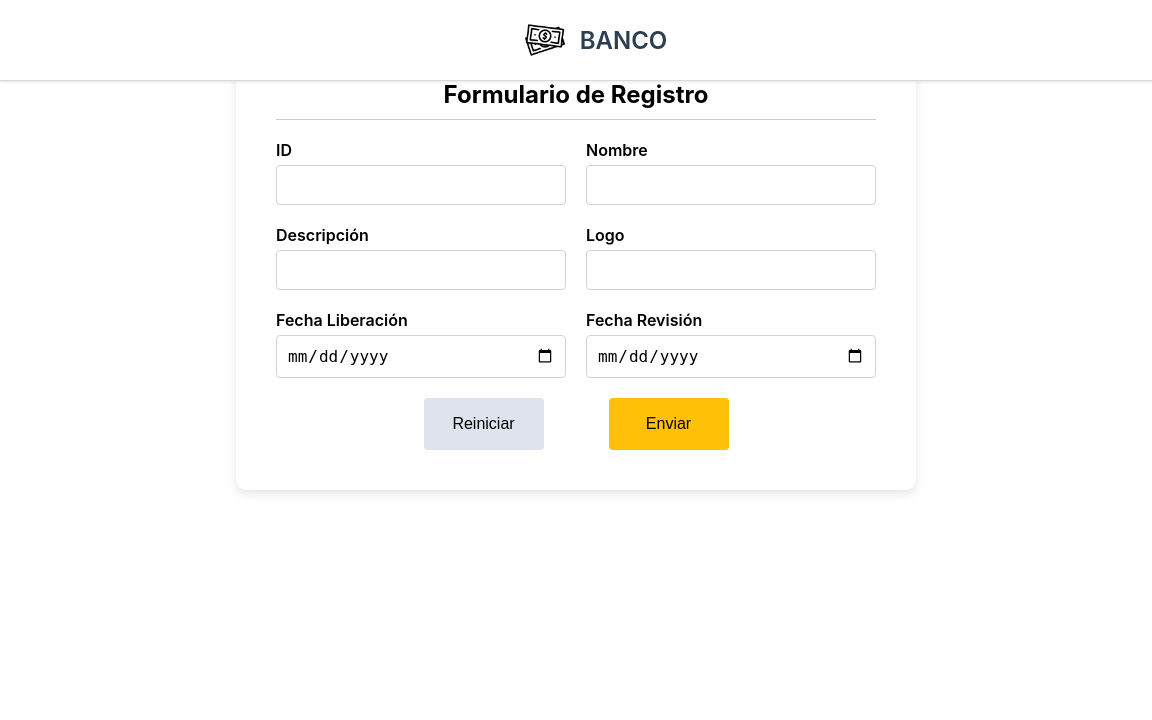
Test: ProductForm Component › submits form successfully in create mode
Type "112233" into the field labelled "ID" at (421,185), box [276,165,566,205]
Type "Test Product" into the field labelled "Nombre" at (731,185), box [586,165,876,205]
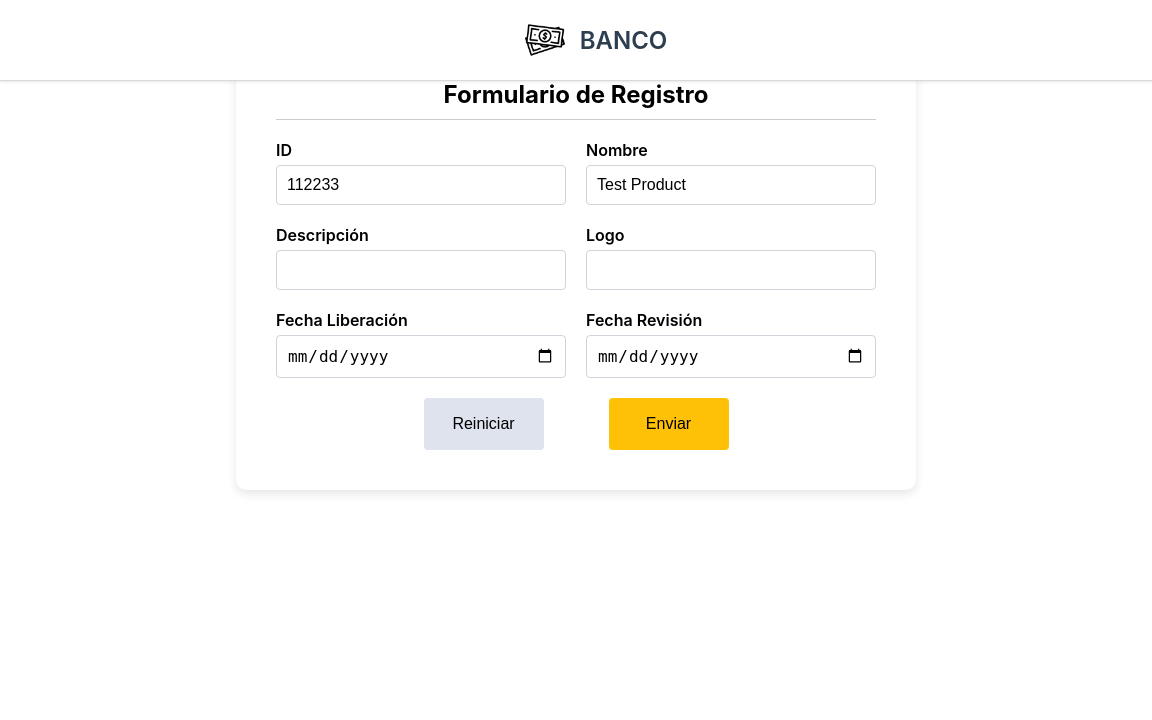
Type "This is a test product" into the field labelled "Descripción" at (421,270), box [276,250,566,290]
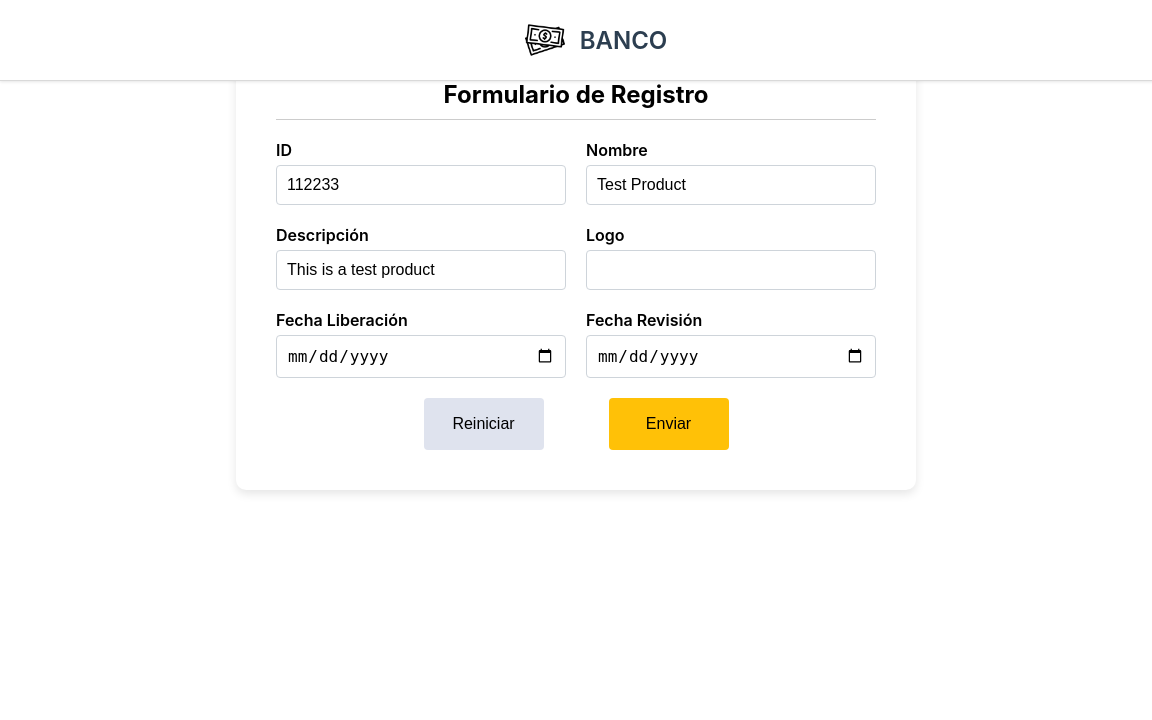
Type "test-logo.png" into the field labelled "Logo" at (731,270), box [586,250,876,290]
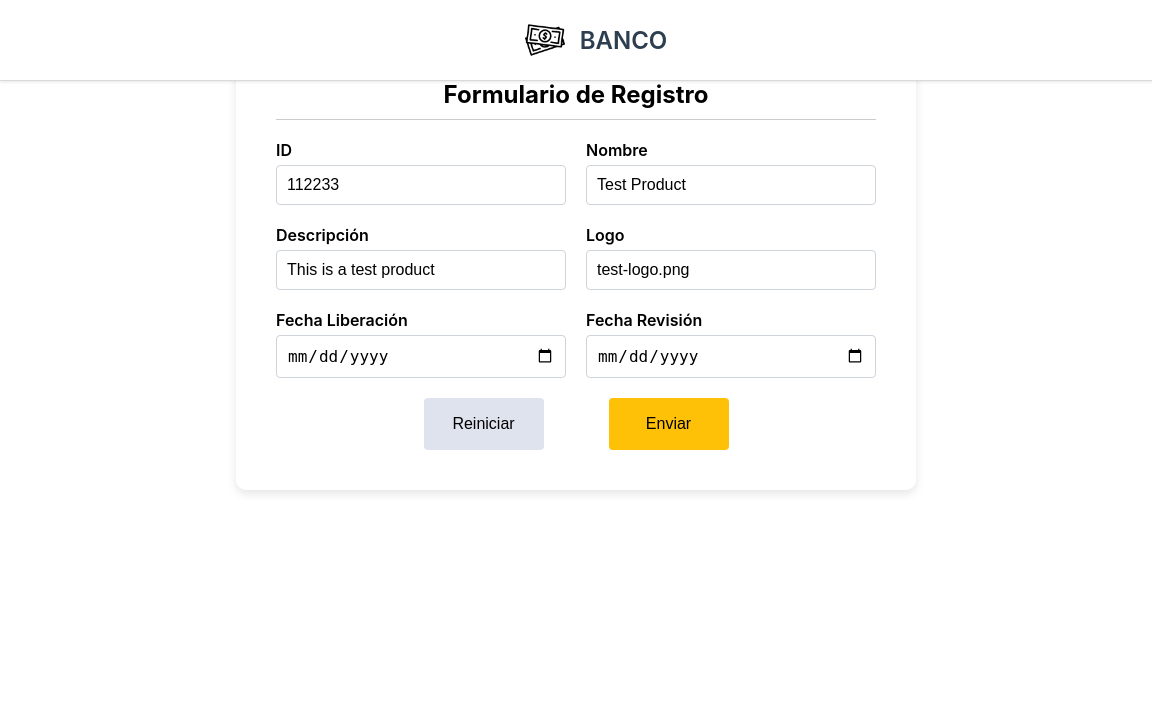
Type "2024-10-01" into the date field labelled "Fecha Liberación" at (421,356), box [276,335,566,378]
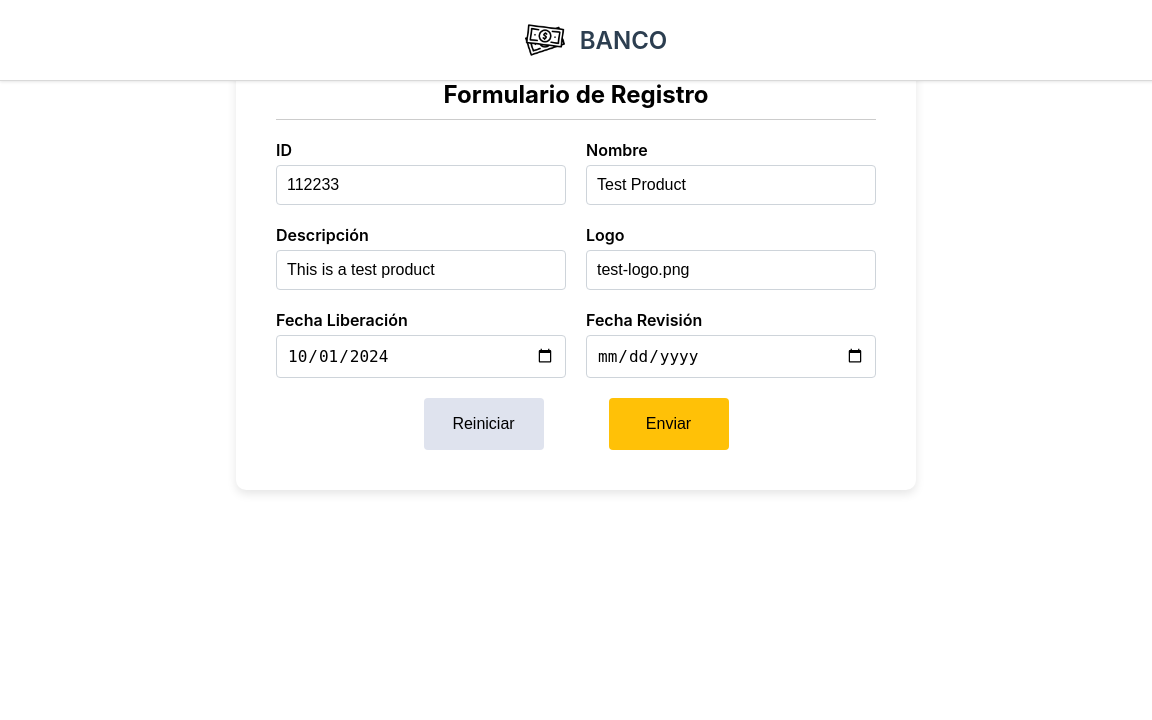
Type "2026-10-10" into the date field labelled "Fecha Revisión" at (731,356), box [586,335,876,378]
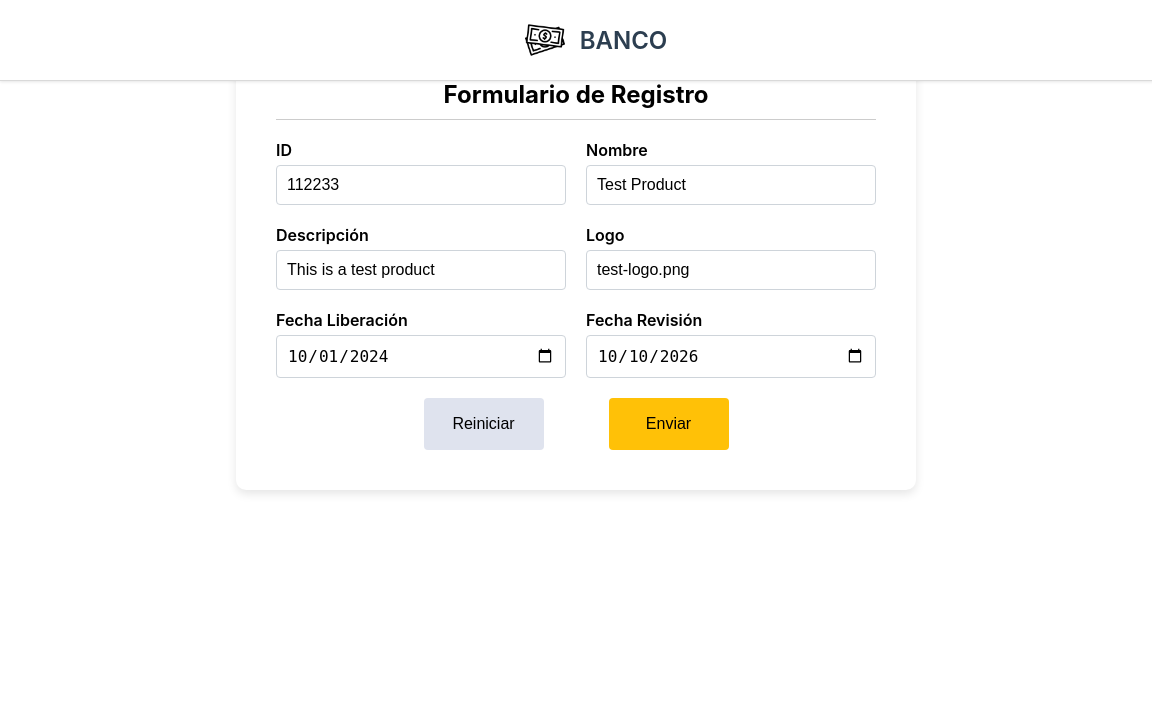
Click the button "Enviar" at (668,424), box [608,398,728,450]
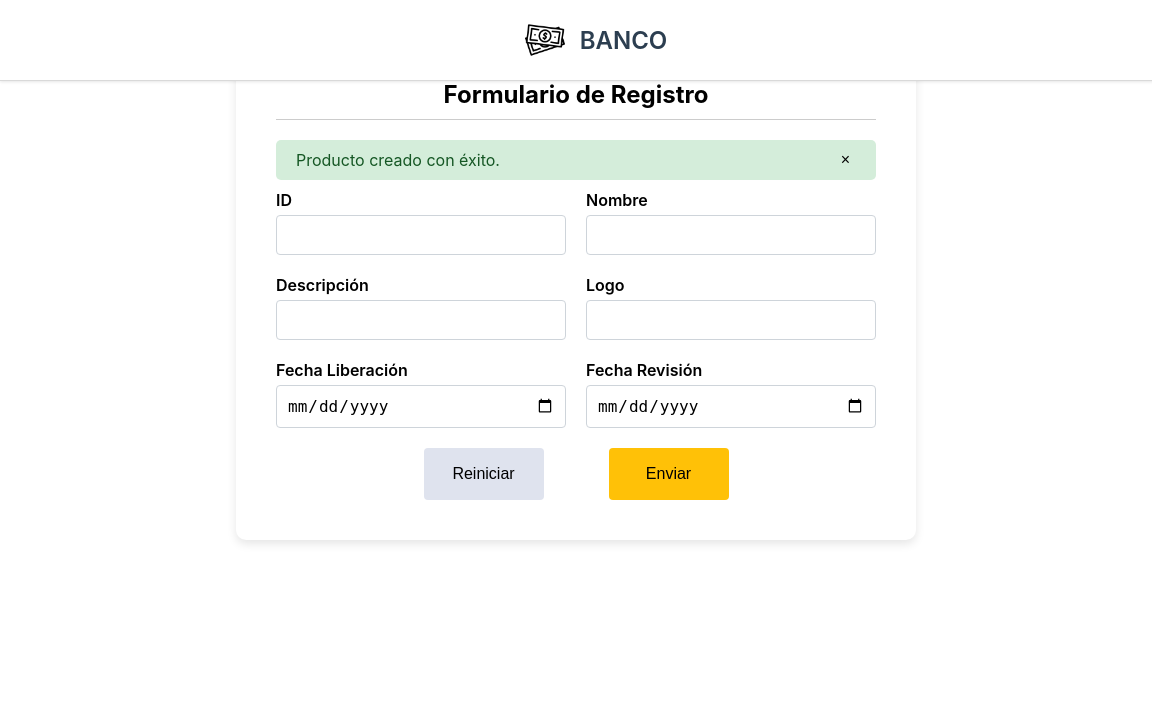
expect the text "Producto creado con éxito." is shown: met, box [296,150,500,170]
